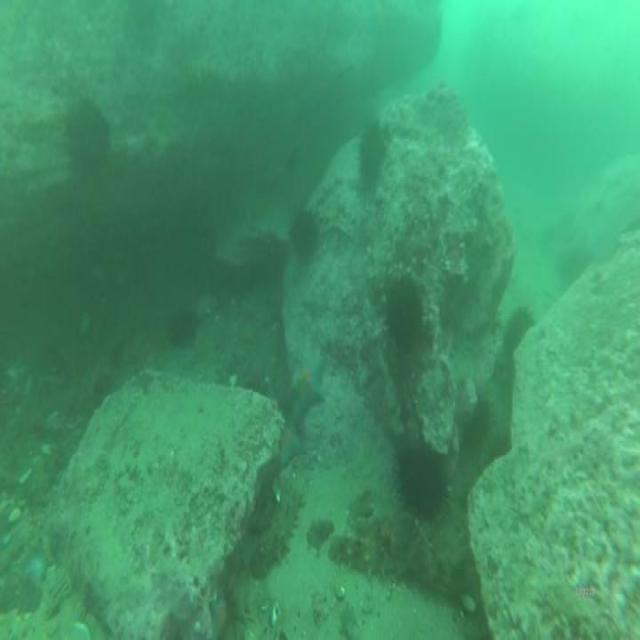echinus: (394, 444, 444, 515), (66, 103, 108, 175), (388, 280, 420, 344), (359, 122, 384, 188), (292, 212, 318, 258), (506, 308, 534, 349), (167, 311, 189, 343)
holothurian: (253, 485, 303, 577), (327, 532, 394, 578)
starfish: (292, 356, 324, 416), (280, 427, 304, 469)
